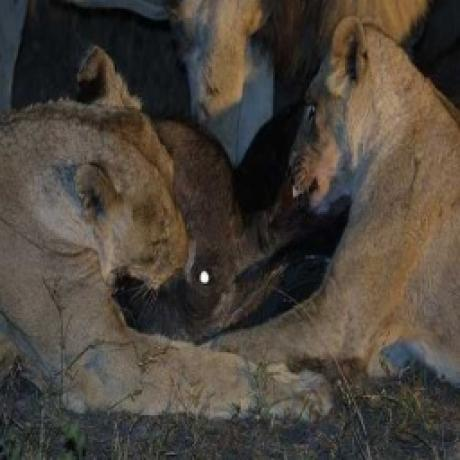Lion: (0, 45, 329, 419), (219, 11, 460, 383)
